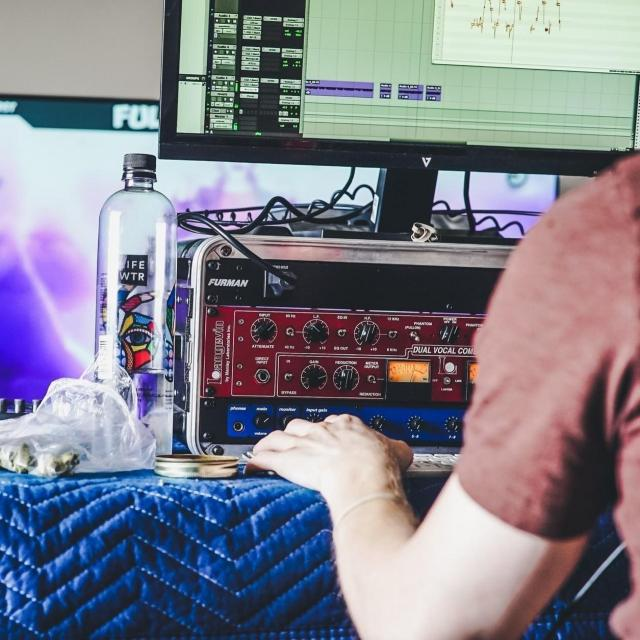bottle-plastic: (92, 148, 177, 464)
